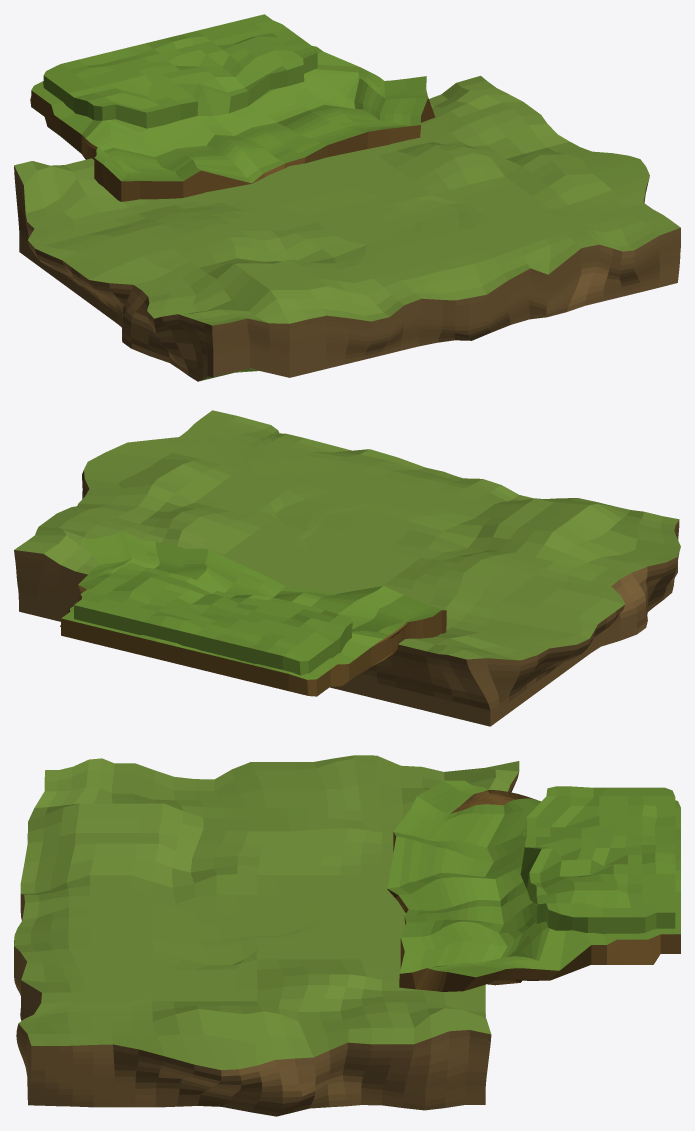
Rendered from florestinha.fbx.
The picture shows the model from 3 angles, top to bottom: view 1: azimuth 30°, elevation 25°; view 2: azimuth 150°, elevation 25°; view 3: azimuth 270°, elevation 25°; orthographic projection. The views are drawn at different scales.
Parts seen in each view (by area): view 1: Cube.001; view 2: Cube.001; view 3: Cube.001.
Boxes of the visible parts, x1,y1,x2,y2 form: Cube.001: (14,14,680,381); Cube.001: (14,410,680,726); Cube.001: (14,755,680,1116).
Size of the model in its own units: 937 by 175 by 846.
